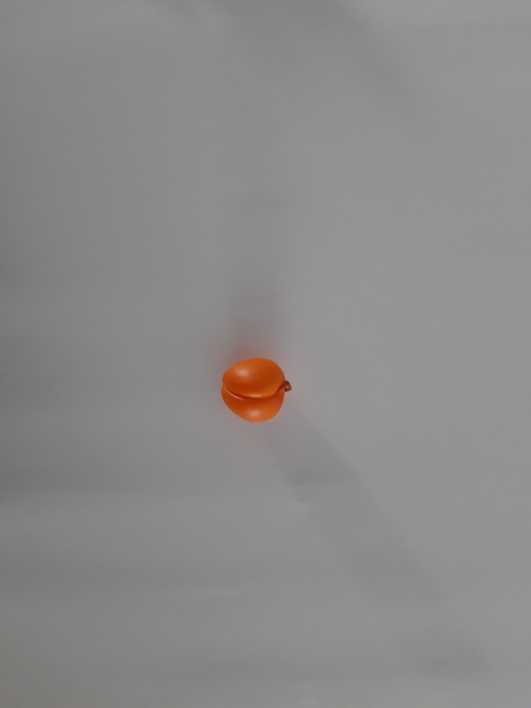apricot: (199, 343, 329, 448)
